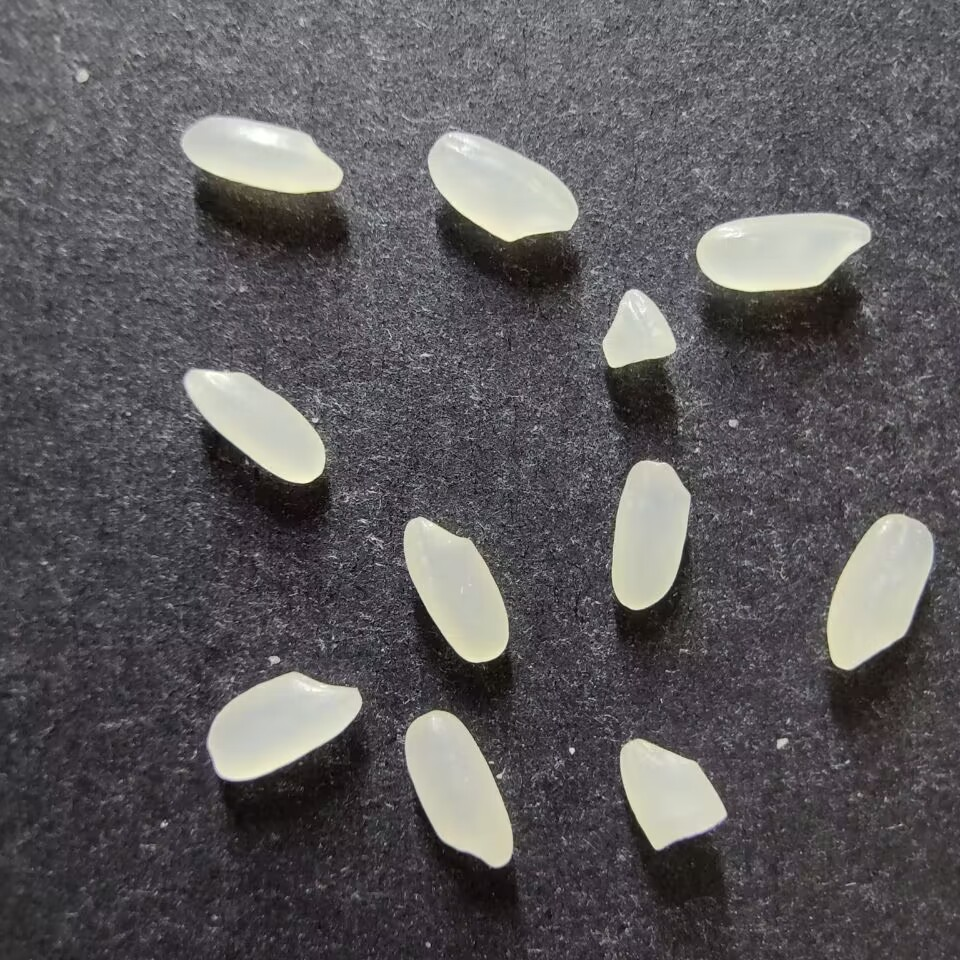broken: (619, 738, 726, 850), (600, 287, 677, 368)
rice: (403, 709, 513, 868), (206, 670, 362, 781), (824, 513, 934, 670), (426, 131, 578, 241), (182, 368, 325, 484), (402, 516, 509, 664), (695, 212, 872, 291), (179, 116, 343, 194), (609, 459, 690, 611)
